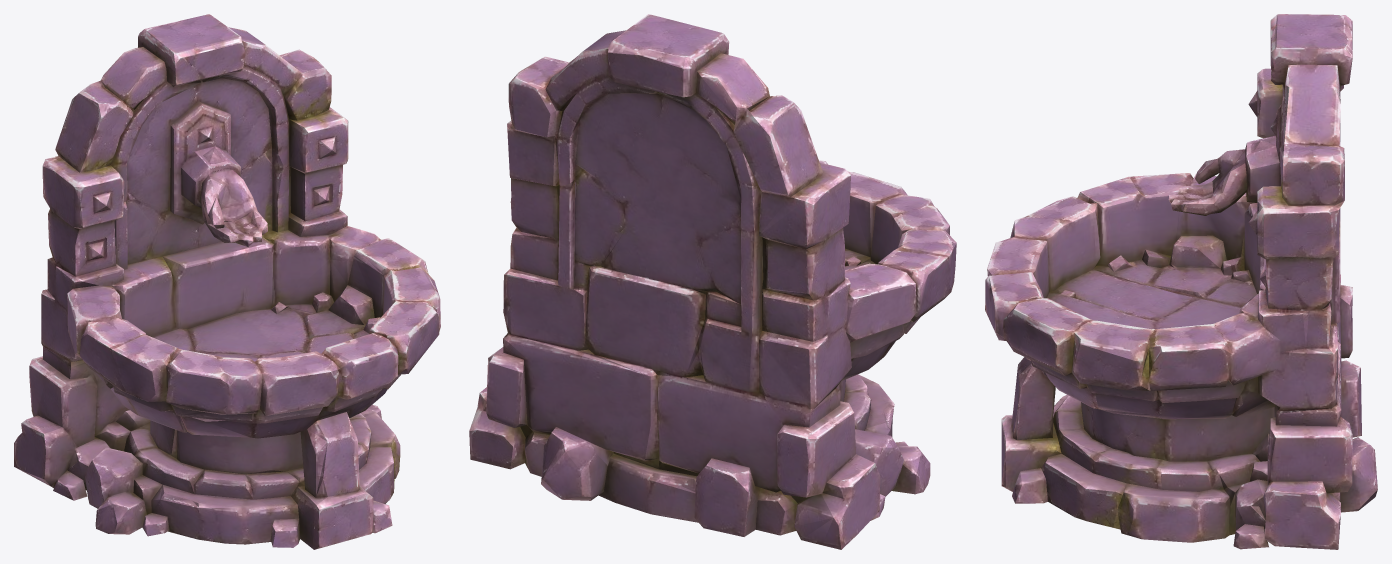
File: healing_fountain.glb
The picture shows the model from 3 angles, left to right: view 1: azimuth 30°, elevation 25°; view 2: azimuth 150°, elevation 25°; view 3: azimuth 270°, elevation 25°; orthographic projection. The views are drawn at different scales.
Parts seen in each view (by area): view 1: body; view 2: body; view 3: body.
Part boxes in pixels (<box>): body: <box>14,14,440,549</box>; body: <box>469,14,956,549</box>; body: <box>985,14,1377,549</box>.
Bounding box in the file's own units: 1.19 × 1.4 × 1.13.
1 material, 1 textured.
